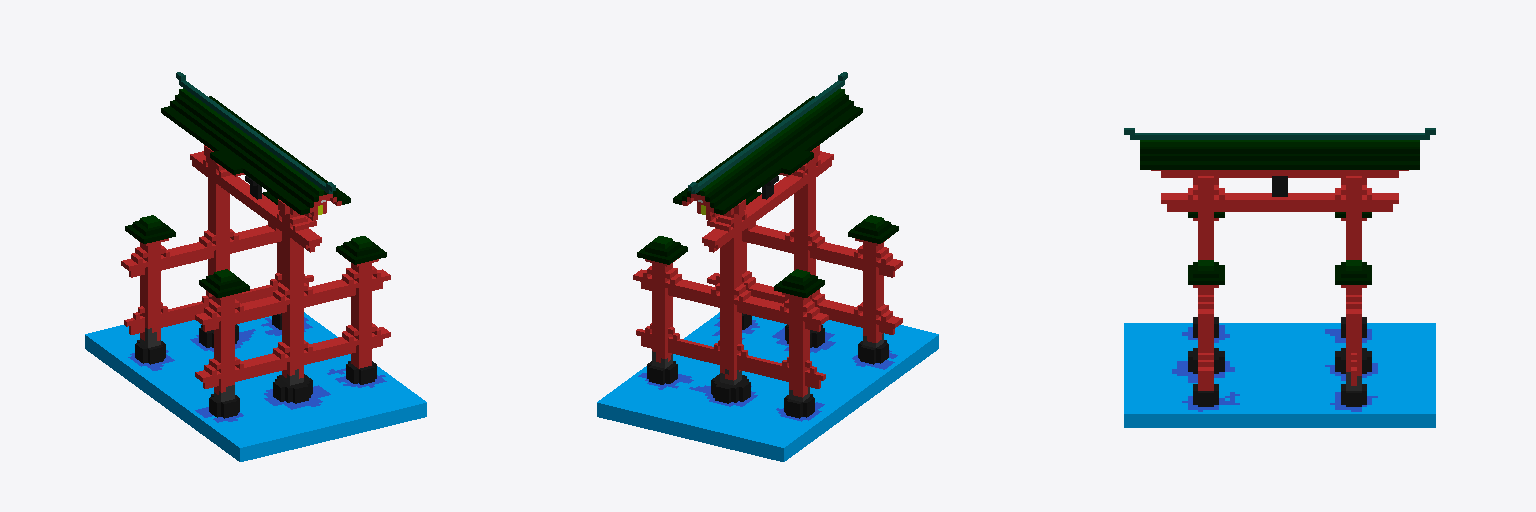
3 views of the same model, side by side, from view 1: azimuth 30°, elevation 25°; view 2: azimuth 150°, elevation 25°; view 3: azimuth 270°, elevation 25° (orthographic).
Size of the model in its own units: 41 by 53 by 59.
Materials: 1 (1 with a texture image).